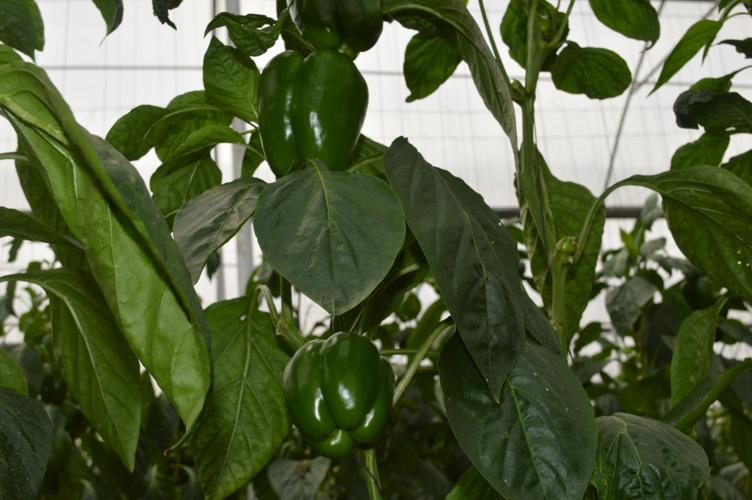BellPepper: (251, 54, 376, 179), (277, 335, 390, 457), (287, 4, 384, 59)
